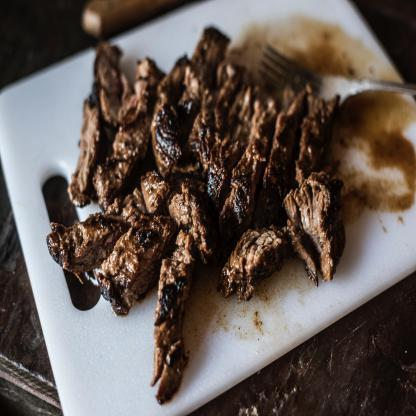Carne: (144, 178, 208, 406), (98, 213, 176, 315), (214, 99, 278, 214), (147, 54, 204, 178), (214, 223, 288, 302), (290, 168, 338, 284), (46, 204, 126, 269), (95, 109, 148, 205), (207, 83, 248, 202), (72, 94, 102, 200), (275, 88, 310, 171)
